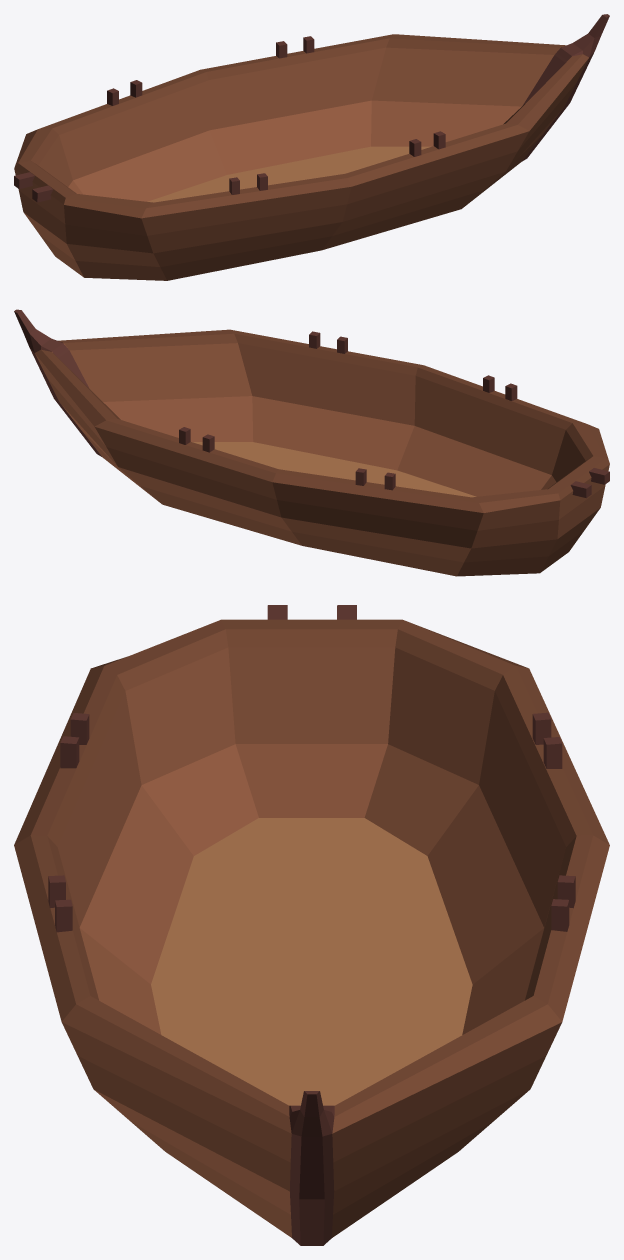
Rendered from boat_empty.fbx.
3 views of the same model, one above another, from view 1: azimuth 30°, elevation 25°; view 2: azimuth 150°, elevation 25°; view 3: azimuth 270°, elevation 25° (orthographic). The views are drawn at different scales.
Visible parts, largest first — view 1: boat; view 2: boat; view 3: boat.
Part boxes in pixels (<box>): boat: <box>14,14,609,280</box>; boat: <box>14,309,609,576</box>; boat: <box>14,605,609,1245</box>.
Size of the model in its own units: 422 by 83.57 by 196.
